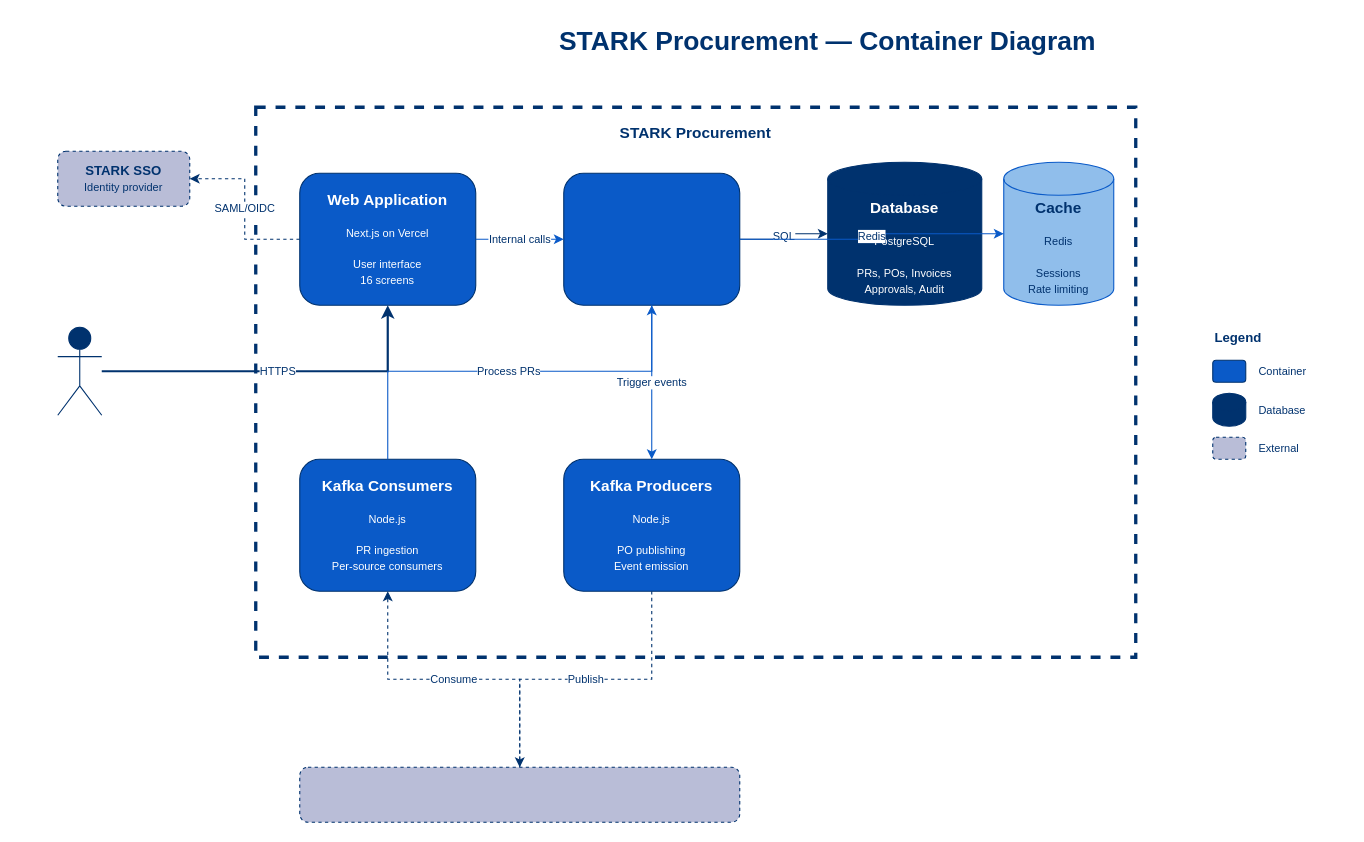
The diagram is 1364 pixels wide and 842 high, and some of its shapes have lost their labels. The shapes that lost their labels are listed below. From the top down, each one's box as (x1, y1, x2, y2) in pixels, then its label:
(563, 172, 740, 305): API Layer Next.js API Routes REST endpoints Business logic
(57, 326, 102, 415): Procurement User Buyer / Approver / Admin
(299, 766, 740, 822): STARK Kafka Message broker
